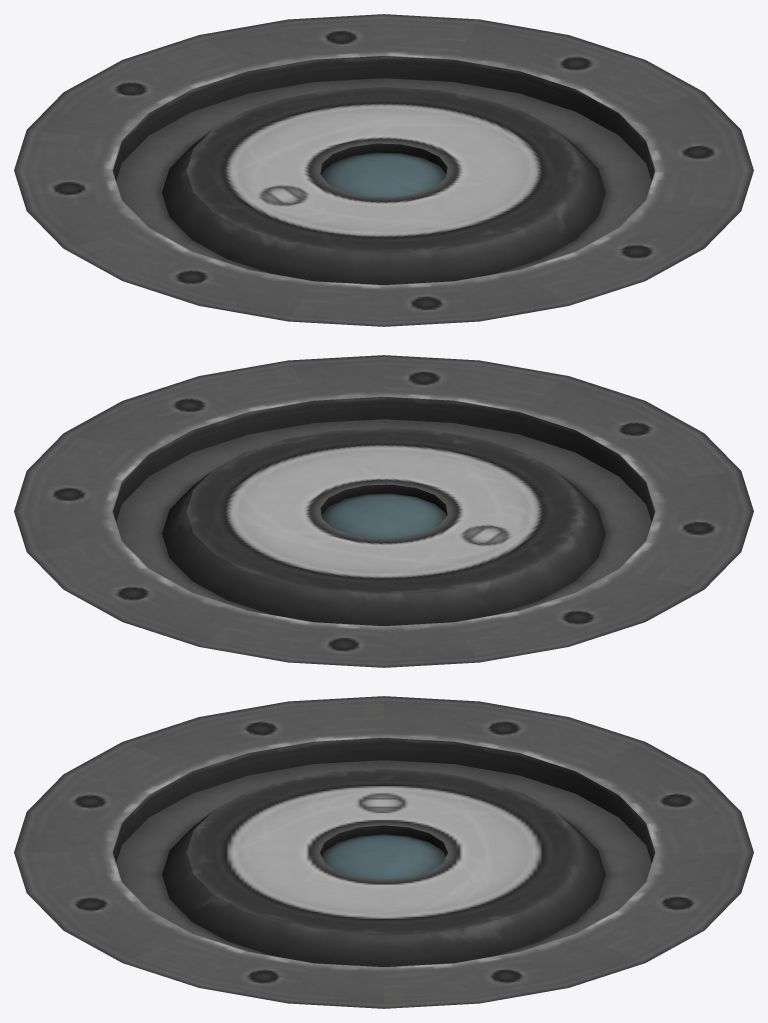
The model's file is end_crew_s0p5.obj.
3 renders of one model, top to bottom at view 1: azimuth 30°, elevation 25°; view 2: azimuth 150°, elevation 25°; view 3: azimuth 270°, elevation 25°, orthographic.
Parts seen in each view (by area): view 1: end; view 2: end; view 3: end.
Part boxes in pixels (box(x1,y1,x2,y2)): end: box(14, 14, 753, 326); end: box(14, 355, 753, 667); end: box(14, 696, 753, 1008).
Bounding box in the file's own units: 0.9375 × 0.0313 × 0.9375.
